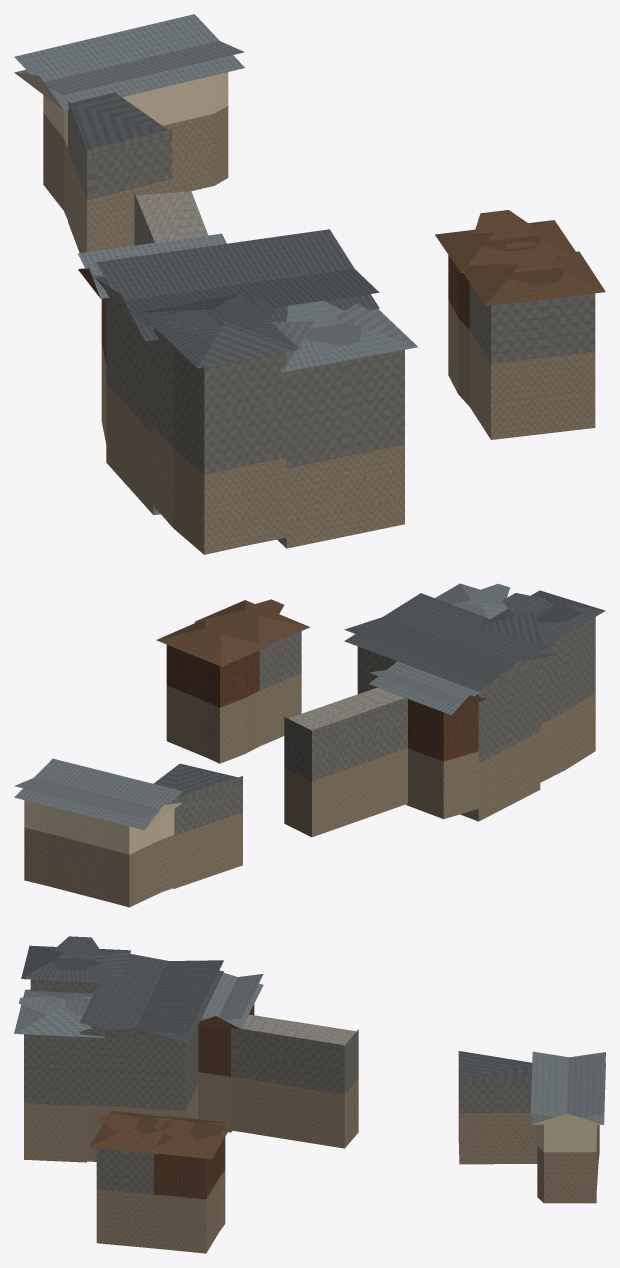
File: bld_c22_46_391.gltf
The picture shows the model from 3 angles, top to bottom: view 1: azimuth 30°, elevation 25°; view 2: azimuth 150°, elevation 25°; view 3: azimuth 270°, elevation 25°; orthographic projection. The views are drawn at different scales.
Parts seen in each view (by area): view 1: bld_c22_46_391; view 2: bld_c22_46_391; view 3: bld_c22_46_391.
Part boxes in pixels (bbox=[...]): bld_c22_46_391: bbox=[14, 14, 605, 554]; bld_c22_46_391: bbox=[14, 583, 605, 907]; bld_c22_46_391: bbox=[14, 936, 605, 1253].
Bounding box in the file's own units: 32.35 × 13.9 × 48.19.
11 materials, 11 textured.
